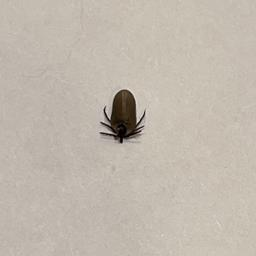Ixodes scapularis: (99, 89, 146, 142)
